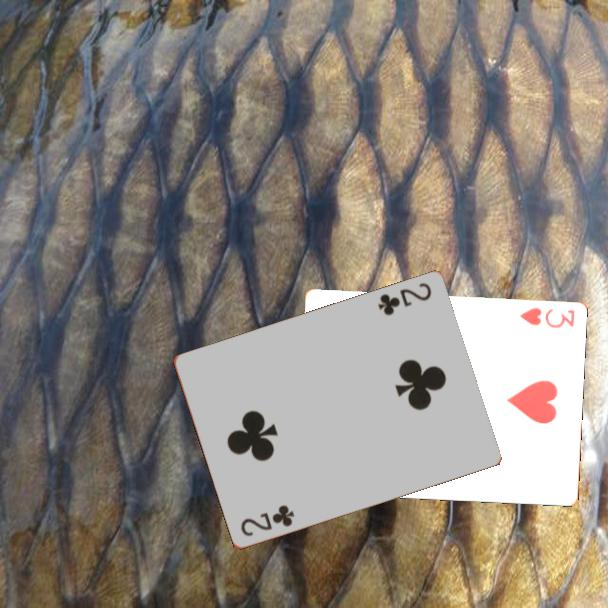c02: (374, 280, 434, 319), (237, 502, 297, 540)
h03: (516, 304, 577, 331)
